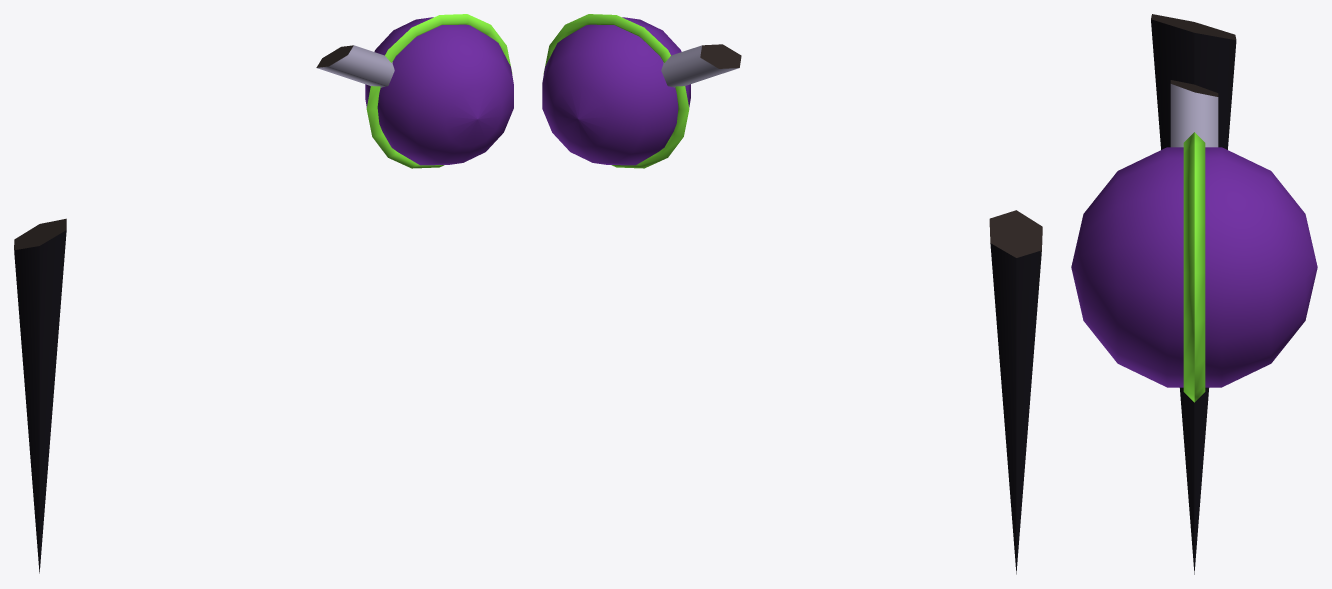
File: dominion_outpost_debris3.obj
3 views of the same model, side by side, from view 1: azimuth 30°, elevation 25°; view 2: azimuth 150°, elevation 25°; view 3: azimuth 270°, elevation 25° (orthographic). The views are drawn at different scales.
Visible parts, largest first — view 1: pod, spike, pod_band, strut; view 2: pod, spike, pod_band, strut; view 3: pod, spike, pod_band, strut.
Boxes of the visible parts, x1,y1,x2,y2 form: pod: [365, 17, 513, 165]; spike: [14, 218, 66, 573]; pod_band: [366, 14, 512, 168]; strut: [316, 45, 394, 87]; pod: [542, 17, 690, 165]; spike: [989, 210, 1042, 574]; pod_band: [543, 14, 689, 168]; strut: [661, 44, 741, 87]; pod: [1071, 147, 1317, 387]; spike: [1151, 14, 1236, 574]; pod_band: [1183, 132, 1205, 402]; strut: [1170, 80, 1218, 147].
Size of the model in its own units: 67.66 by 60.02 by 18.
